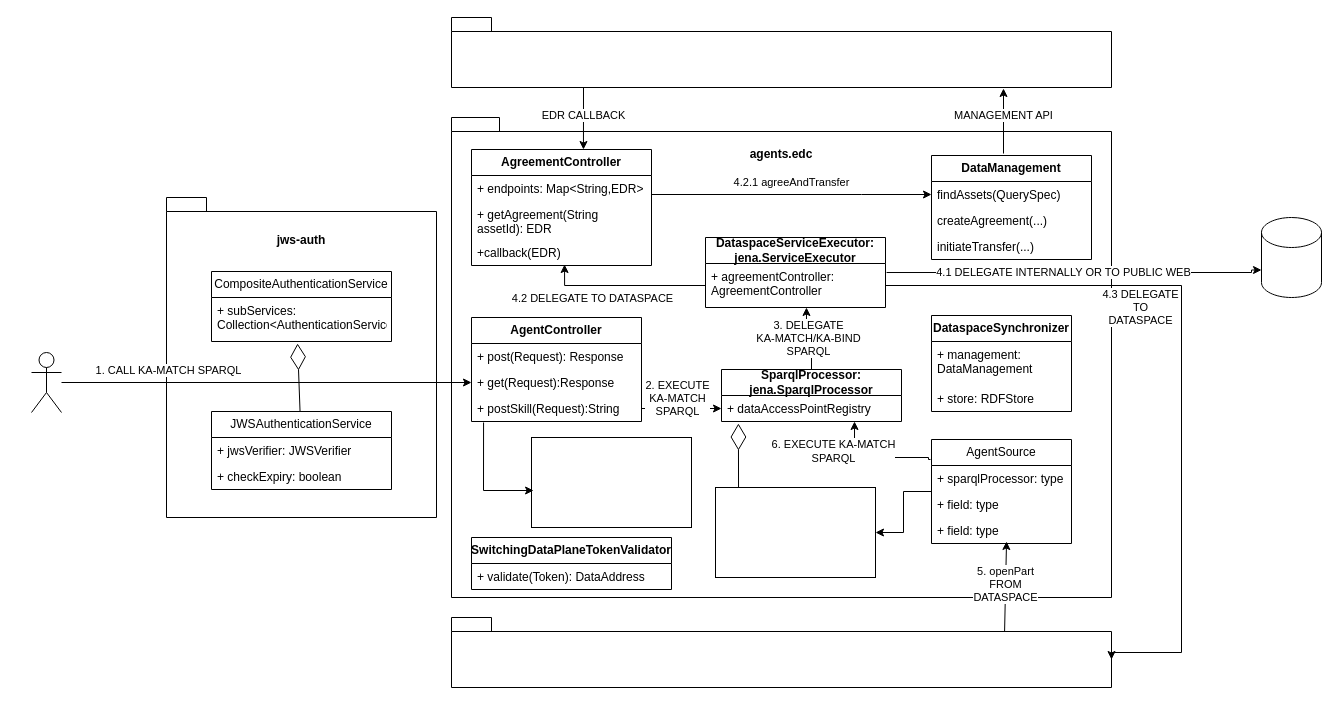
Image size: 1339x705. Some labels were removed from this diagram. The shapes that lost their labels are listed below. From the top down, each one's centre as x and y in pixels, then its label:
the point at 781,52: EDC Control Plane
the point at 1291,257: Binding Agent/Data Source
the point at 46,382: Application
the point at 611,482: EdcSkillStore:ISkillStore dataset = jena.DatasetGraph api = jena.DataAccessPoint
the point at 795,532: RDFStore dataset = jena.DatasetGraph api = jena.DataAccessPoint
the point at 781,652: EDC Data Plane
